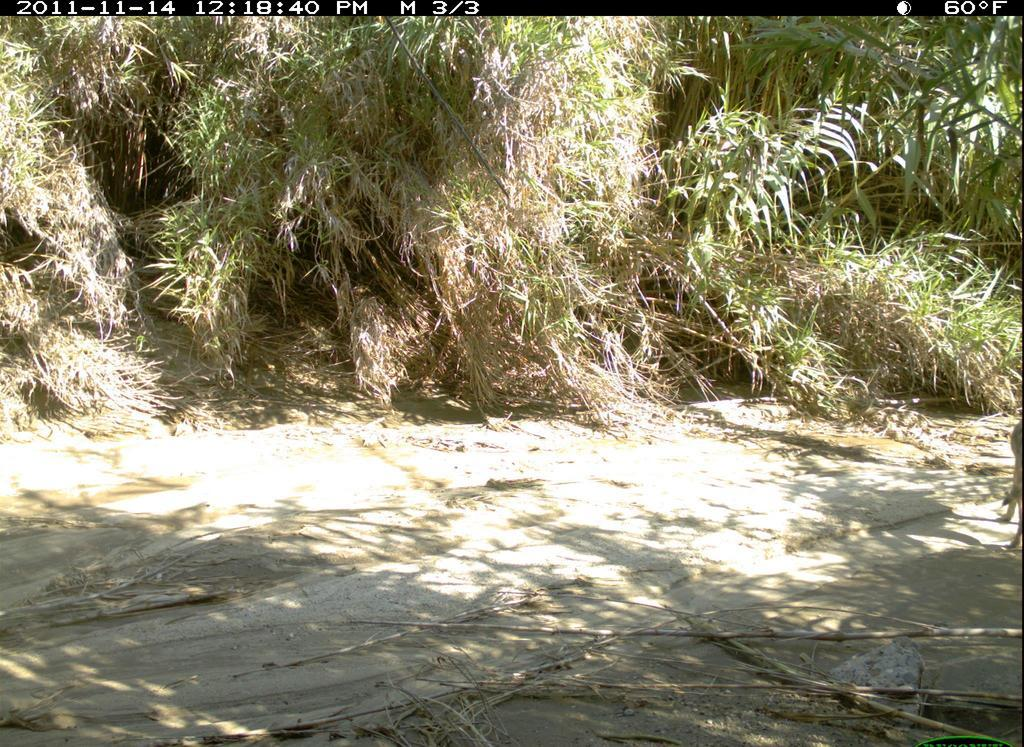coyote: (990, 414, 1022, 557)
